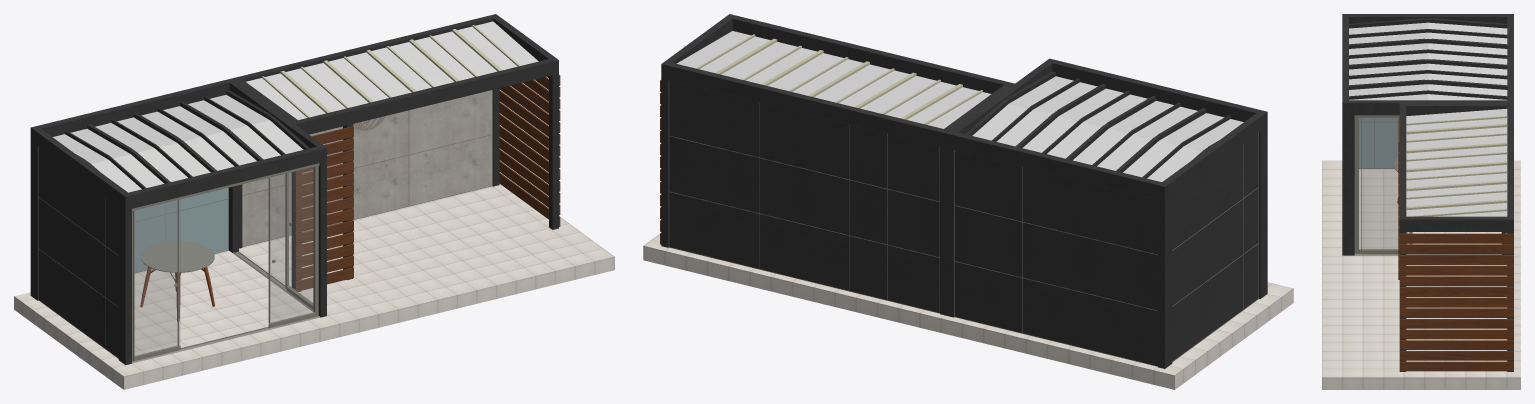
File: agp5-g_matblack.fbx
3 views of the same model, side by side, from view 1: azimuth 30°, elevation 25°; view 2: azimuth 150°, elevation 25°; view 3: azimuth 270°, elevation 25° (orthographic). The views are drawn at different scales.
Visible parts, largest first — view 1: agp5-g_matblack_ファニチャーなし.001; view 2: agp5-g_matblack_ファニチャーなし.001; view 3: agp5-g_matblack_ファニチャーなし.001.
Boxes of the visible parts, left/top/right/bottom form: agp5-g_matblack_ファニチャーなし.001: left=14, top=14, right=614, bottom=389; agp5-g_matblack_ファニチャーなし.001: left=643, top=14, right=1293, bottom=389; agp5-g_matblack_ファニチャーなし.001: left=1322, top=14, right=1520, bottom=389.
Bounding box in the file's own units: 763 × 270 × 295.
25 materials, 17 textured.
